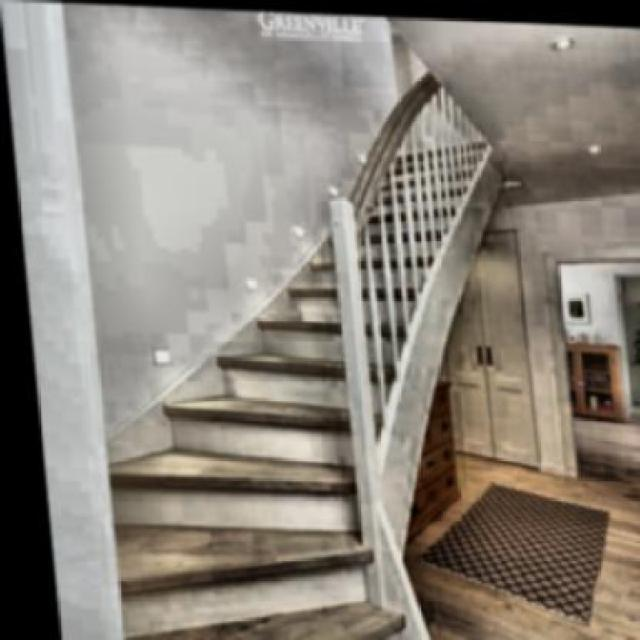stair: (52, 138, 468, 564)
